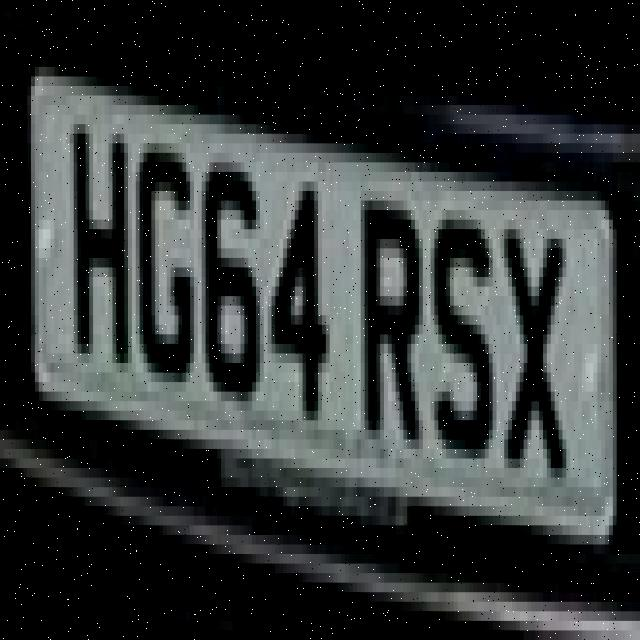licenseplate: (22, 29, 627, 568)
